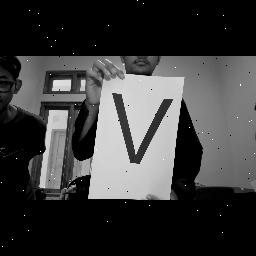v: (106, 88, 182, 164)
